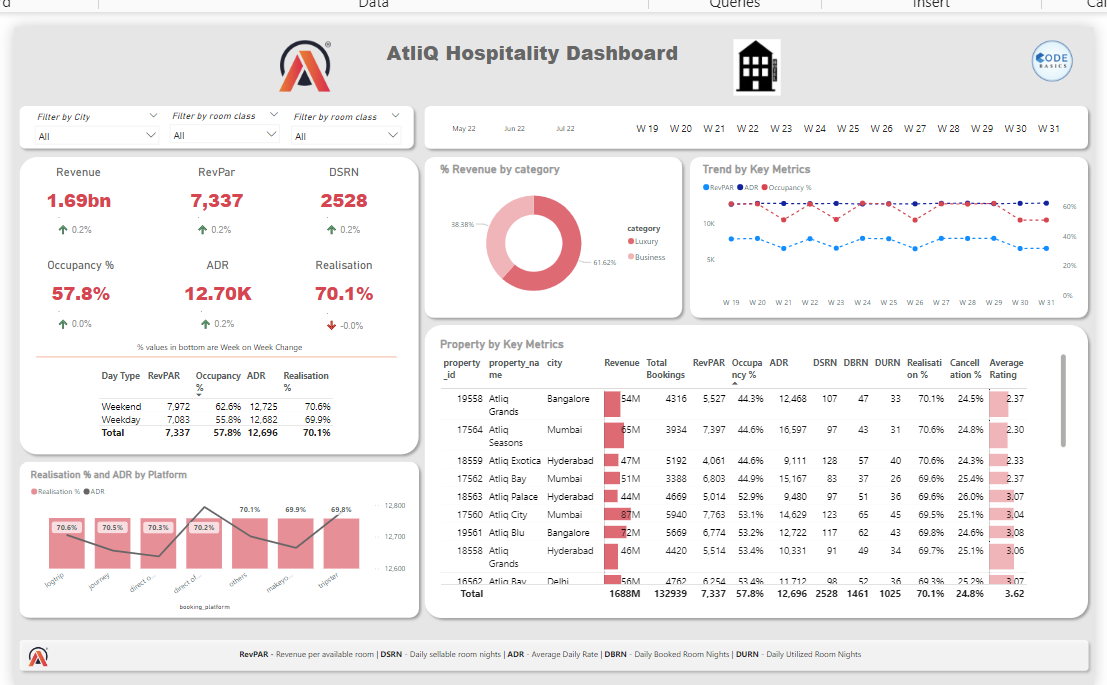

The dashboard page shown, as its layout file describes it:
{"tool":"powerbi","page":{"name":"Home","canvas":[1800,1100],"ordinal":2},"visuals":[{"type":"shape","box":[0.2,123.6,675.2,88.8],"z":0},{"type":"shape","box":[676,122.7,1124,89.3],"z":1000},{"type":"shape","box":[676,488,1124,506.7],"z":2000},{"type":"shape","box":[675.1,208.6,447.6,286.1],"z":3000},{"type":"shape","box":[1118.6,208.6,681.7,286.1],"z":4000},{"type":"shape","box":[0.2,207,683.4,513.9],"z":5000},{"type":"slicer","fields":{"Values":["dim_rooms.room_class"]},"box":[250.7,133.3,202.7,72],"z":6000},{"type":"slicer","fields":{"Values":["dim_hotels.city"]},"box":[24,134.7,226.7,76],"z":7000},{"type":"slicer","fields":{"Values":["dim_date.mmm yy"]},"box":[683.6,145.5,302.1,47.8],"z":8000},{"type":"card","title":"Revenue","fields":{"Values":["key_measures.Revenue"]},"box":[30.7,230.7,154.7,95.8],"z":8000,"group":"g2"},{"type":"card","title":"RevPar","fields":{"Values":["key_measures.Rev Par"]},"box":[257.9,230.7,160.2,95.8],"z":9000,"group":"g2"},{"type":"card","title":"Occupancy %","fields":{"Values":["key_measures.Occupancy %"]},"box":[14.7,386.3,192,96],"z":9000,"group":"g1"},{"type":"tableEx","title":"Property by Key Metrics","fields":{"Values":["dim_hotels.property_id","dim_hotels.property_name","dim_hotels.city","key_measures.Revenue","key_measures.Total Bookings","key_measures.Rev Par","key_measures.Occupancy %","key_measures.ADR","key_measures.DSRN","key_measures.DBRN","key_measures.DURN","key_measures.Realisation %"]},"box":[704,517.3,1053.3,445.3],"z":9000},{"type":"lineChart","title":"Trend by Key Metrics","fields":{"Category":["dim_date.mmm yy.Variation.Date Hierarchy.Month","dim_date.week no"],"Y2":["key_measures.Occupancy %"],"Y":["key_measures.Rev Par","key_measures.ADR"]},"box":[1142.7,225.3,633.3,252],"z":10000},{"type":"card","title":"DSRN","fields":{"Values":["key_measures.DSRN"]},"box":[456.5,231.1,189.3,96],"z":11000,"group":"g2"},{"type":"tableEx","fields":{"Values":["dim_date.day type","key_measures.Rev Par","key_measures.Occupancy %","key_measures.ADR","key_measures.Realisation %"]},"box":[135.1,564.9,437.2,129.8],"z":11000},{"type":"card","title":"ADR","fields":{"Values":["key_measures.ADR"]},"box":[241.4,385.9,193.3,96],"z":12000,"group":"g1"},{"type":"shape","box":[0,716,684,278.7],"z":12000},{"type":"card","title":"Realisation","fields":{"Values":["key_measures.Realisation %"]},"box":[452.5,386.8,194.7,96],"z":13000,"group":"g1"},{"type":"lineStackedColumnComboChart","title":"Realisation % and ADR by Platform","fields":{"Category":["fact_bookings.booking_platform"],"Y":["key_measures.Realisation %"],"Y2":["key_measures.ADR"]},"box":[21.3,736,634.7,241.3],"z":13000},{"type":"slicer","fields":{"Values":["dim_date.week no"]},"box":[1002.7,145.3,773.3,48],"z":14000},{"type":"shape","box":[0,1013.3,1800,69.3],"z":15000},{"type":"group","id":"g1","title":"Group 1","box":[14.7,385.9,632.4,96.9],"z":16000},{"type":"image","box":[1669.3,14.7,120,82.7],"z":17000},{"type":"image","box":[0,1028,81.3,42.7],"z":18000},{"type":"slicer","fields":{"Values":["dim_rooms.room_class"]},"box":[453.3,134.7,202.7,72],"z":19000},{"type":"group","id":"g2","title":"Group 2","box":[30.7,230.7,615.1,96.4],"z":20000},{"type":"tableEx","fields":{"Values":["key_measures.Revpar WoW change %"]},"box":[296,297.3,92,58.7],"z":21000},{"type":"textbox","box":[345,1029.6,1093.6,39],"z":22000},{"type":"shape","box":[38.7,542.7,600,14.7],"z":23000},{"type":"tableEx","fields":{"Values":["key_measures.Revpar WoW change %"]},"box":[61.3,297.3,92,58.7],"z":24000},{"type":"tableEx","fields":{"Values":["key_measures.Revpar WoW change %"]},"box":[509.3,297.3,92,58.7],"z":25000},{"type":"donutChart","title":"% Revenue by category","fields":{"Category":["dim_hotels.category"],"Y":["key_measures.Revenue"]},"box":[704,225.3,396,248],"z":26000},{"type":"group","id":"g3","title":"Group 3","box":[61.3,454.3,540,60],"z":27000},{"type":"tableEx","fields":{"Values":["key_measures.Occupancy WoW change %"]},"box":[61.3,454.3,92,58.7],"z":27000,"group":"g3"},{"type":"tableEx","fields":{"Values":["key_measures.ADR WoW change %"]},"box":[298.6,454.3,92,58.7],"z":28000,"group":"g3"},{"type":"textbox","box":[200,517.3,308,33.3],"z":28000},{"type":"image","box":[398,14,176,98],"z":28002},{"type":"textbox","box":[550,14,628,82],"z":28003},{"type":"image","box":[1142,14,192,104],"z":28004},{"type":"tableEx","fields":{"Values":["key_measures.Realisation WoW change %"]},"box":[509.3,455.6,92,58.7],"z":29000,"group":"g3"}]}

Visuals, with their boxes on the page's 1800x1100 design canvas (x1, y1, x2, y2). These are canvas units, not pixel positions in the 1107x685 screenshot, which may show the page scaled, cropped or inside an application window:
shape: <bbox>0, 124, 675, 212</bbox>
shape: <bbox>676, 123, 1800, 212</bbox>
shape: <bbox>676, 488, 1800, 995</bbox>
shape: <bbox>675, 209, 1123, 495</bbox>
shape: <bbox>1119, 209, 1800, 495</bbox>
shape: <bbox>0, 207, 684, 721</bbox>
slicer - dim_rooms.room_class: <bbox>251, 133, 453, 205</bbox>
slicer - dim_hotels.city: <bbox>24, 135, 251, 211</bbox>
slicer - dim_date.mmm yy: <bbox>684, 146, 986, 193</bbox>
"Revenue" card: <bbox>31, 231, 185, 326</bbox>
"RevPar" card: <bbox>258, 231, 418, 326</bbox>
"Occupancy %" card: <bbox>15, 386, 207, 482</bbox>
"Property by Key Metrics" tableEx: <bbox>704, 517, 1757, 963</bbox>
"Trend by Key Metrics" lineChart: <bbox>1143, 225, 1776, 477</bbox>
"DSRN" card: <bbox>456, 231, 646, 327</bbox>
tableEx - dim_date.day type x key_measures.Rev Par: <bbox>135, 565, 572, 695</bbox>
"ADR" card: <bbox>241, 386, 435, 482</bbox>
shape: <bbox>0, 716, 684, 995</bbox>
"Realisation" card: <bbox>452, 387, 647, 483</bbox>
"Realisation % and ADR by Platform" lineStackedColumnComboChart: <bbox>21, 736, 656, 977</bbox>
slicer - dim_date.week no: <bbox>1003, 145, 1776, 193</bbox>
shape: <bbox>0, 1013, 1800, 1083</bbox>
"Group 1" group: <bbox>15, 386, 647, 483</bbox>
image: <bbox>1669, 15, 1789, 97</bbox>
image: <bbox>0, 1028, 81, 1071</bbox>
slicer - dim_rooms.room_class: <bbox>453, 135, 656, 207</bbox>
"Group 2" group: <bbox>31, 231, 646, 327</bbox>
tableEx - key_measures.Revpar WoW change %: <bbox>296, 297, 388, 356</bbox>
textbox: <bbox>345, 1030, 1439, 1069</bbox>
shape: <bbox>39, 543, 639, 557</bbox>
tableEx - key_measures.Revpar WoW change %: <bbox>61, 297, 153, 356</bbox>
tableEx - key_measures.Revpar WoW change %: <bbox>509, 297, 601, 356</bbox>
"% Revenue by category" donutChart: <bbox>704, 225, 1100, 473</bbox>
"Group 3" group: <bbox>61, 454, 601, 514</bbox>
tableEx - key_measures.Occupancy WoW change %: <bbox>61, 454, 153, 513</bbox>
tableEx - key_measures.ADR WoW change %: <bbox>299, 454, 391, 513</bbox>
textbox: <bbox>200, 517, 508, 551</bbox>
image: <bbox>398, 14, 574, 112</bbox>
textbox: <bbox>550, 14, 1178, 96</bbox>
image: <bbox>1142, 14, 1334, 118</bbox>
tableEx - key_measures.Realisation WoW change %: <bbox>509, 456, 601, 514</bbox>
